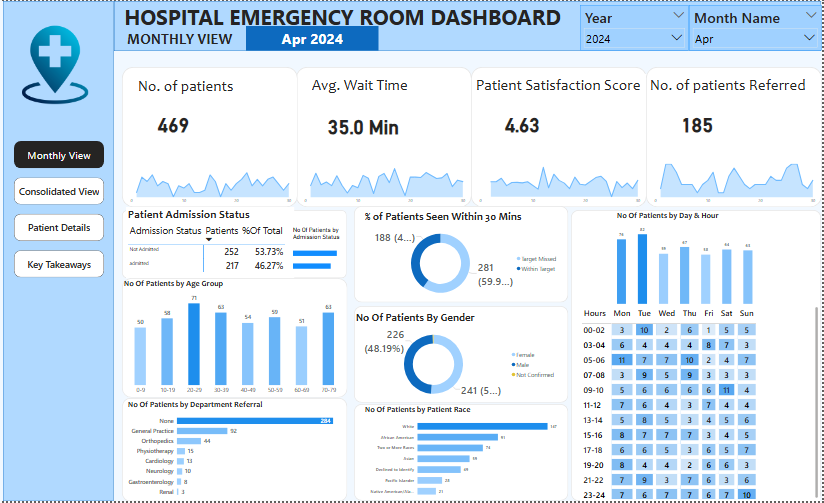

The dashboard page shown, as its layout file describes it:
{"tool":"powerbi","page":{"name":"Monthly View","canvas":[2300,1400],"ordinal":0},"visuals":[{"type":"shape","box":[9.1,0,310,1400.5],"z":0},{"type":"shape","box":[341.1,184.1,492,392.4],"z":0,"group":"g4"},{"type":"shape","box":[830.1,184.1,492,392.4],"z":0,"group":"g1"},{"type":"shape","box":[1319,184.1,492,392.4],"z":0,"group":"g2"},{"type":"shape","box":[1808,184.1,492,392.4],"z":0,"group":"g3"},{"type":"shape","box":[341.2,585.3,629.4,191.2],"z":0,"group":"g5"},{"type":"shape","box":[341.1,775.7,631.4,335.4],"z":0,"group":"g6"},{"type":"card","fields":{"Values":["Hospital ER_Data.No Of Patients"]},"box":[380.3,265.6,208.3,150.9],"z":1000,"group":"g4"},{"type":"card","fields":{"Values":["Hospital ER_Data.Satisfaction Score"]},"box":[1358.2,265.6,208.3,150.9],"z":1000,"group":"g2"},{"type":"card","fields":{"Values":["Hospital ER_Data.No of patients Referred"]},"box":[1847.2,265.6,208.3,150.9],"z":1000,"group":"g3"},{"type":"card","fields":{"Values":["Hospital ER_Data.Avg Wait Time"]},"box":[869.2,277.3,298.8,138.8],"z":1000,"group":"g1"},{"type":"shape","box":[1598.8,585.2,700,814.8],"z":1000},{"type":"shape","box":[319.9,0,1980.1,140],"z":2000},{"type":"textbox","box":[869.2,203.4,308,109.2],"z":2000,"group":"g1"},{"type":"textbox","box":[1328,204.9,489,84.5],"z":2000,"group":"g2"},{"type":"textbox","box":[1814,204.9,482.9,84.5],"z":2000,"group":"g3"},{"type":"textbox","box":[380.3,205.2,307.9,84.5],"z":2000,"group":"g4"},{"type":"textbox","box":[319.9,0,1279.8,90.6],"z":3000},{"type":"areaChart","fields":{"Category":["Date Table.Date.Variation.Date Hierarchy.Day"],"Y":["Hospital ER_Data.No Of Patients"]},"box":[353.2,440.7,470.9,135.8],"z":3000,"group":"g4"},{"type":"areaChart","fields":{"Category":["Date Table.Date.Variation.Date Hierarchy.Day"],"Y":["Avg(Hospital ER_Data.Patient Waittime)"]},"box":[842.2,440.7,470.9,135.8],"z":3000,"group":"g1"},{"type":"areaChart","fields":{"Category":["Date Table.Date.Variation.Date Hierarchy.Day"],"Y":["Hospital ER_Data.Satisfaction Score"]},"box":[1331.1,440.7,470.9,135.8],"z":3000,"group":"g2"},{"type":"areaChart","fields":{"Category":["Date Table.Date.Variation.Date Hierarchy.Day"],"Y":["Hospital ER_Data.No of patients Referred"]},"box":[1820.1,440.7,470.9,135.8],"z":3000,"group":"g3"},{"type":"textbox","box":[319.9,75.5,368.2,63.4],"z":4000},{"type":"slicer","fields":{"Values":["Date Table.Month Name"]},"box":[1928.7,12.1,371.3,126.8],"z":5000},{"type":"slicer","fields":{"Values":["Date Table.Year"]},"box":[1623.9,12.1,304.9,126.8],"z":6000},{"type":"card","fields":{"Values":["Min(Date Table.Month & Year)"]},"box":[688.2,69.4,371.3,69.4],"z":7000},{"type":"group","id":"g1","title":"Group 1","box":[830.1,184.1,492,392.4],"z":8000},{"type":"group","id":"g2","title":"Group 1","box":[1319,184.1,497.9,392.4],"z":9000},{"type":"group","id":"g3","title":"Group 1","box":[1808,184.1,492,392.4],"z":10000},{"type":"group","id":"g4","title":"Group 1","box":[341.1,184.1,492,392.4],"z":11000},{"type":"group","id":"g5","title":"Group 1","box":[341.2,585.3,629.4,191.2],"z":12000},{"type":"pivotTable","title":"Patient Admission Status","fields":{"Rows":["Hospital ER_Data.Admission Status"],"Values":["Hospital ER_Data.No Of Patients1","Hospital ER_Data.No Of Patients"]},"box":[352.9,576.5,470.6,200],"z":13000},{"type":"barChart","fields":{"Category":["Hospital ER_Data.Admission Status"],"Y":["Hospital ER_Data.No Of Patients"]},"box":[814.8,630,156.8,145.6],"z":14000},{"type":"group","id":"g6","title":"Group 1","box":[341.1,775.7,630.8,335],"z":15000},{"type":"clusteredColumnChart","fields":{"Category":["Hospital ER_Data.Age Group"],"Y":["Hospital ER_Data.No Of Patients"]},"box":[341.1,775.7,630.8,335],"z":16000},{"type":"shape","box":[341.1,1110.8,630.8,289.8],"z":17000},{"type":"clusteredBarChart","fields":{"Category":["Hospital ER_Data.Department Referral"],"Y":["Hospital ER_Data.No Of Patients"]},"box":[352.9,1113.1,619.1,285.5],"z":18000},{"type":"shape","box":[991.2,574.2,600,270],"z":19000},{"type":"donutChart","title":"% of Patients Seen Within 30 Mins","fields":{"Category":["Hospital ER_Data.Wait_time_Status"],"Y":["Hospital ER_Data.No Of Patients"]},"box":[1016.1,583.9,554.8,261.3],"z":20000},{"type":"shape","box":[990.3,854.8,600,271],"z":21000},{"type":"donutChart","title":"No Of Patients By Gender","fields":{"Y":["Hospital ER_Data.No Of Patients"],"Category":["Hospital ER_Data.Patient Gender"]},"box":[990.3,867.7,574.2,261.3],"z":22000},{"type":"shape","box":[990.3,1129,600,271],"z":23000},{"type":"clusteredBarChart","fields":{"Y":["Hospital ER_Data.No Of Patients"],"Category":["Hospital ER_Data.Patient Race"]},"box":[1016.4,1128.4,554.4,271.6],"z":24000},{"type":"pivotTable","fields":{"Rows":["Hospital ER_Data.Wait Time Interval"],"Columns":["Date Table.Day Name"],"Values":["Hospital ER_Data.No Of Patients"]},"box":[1624,851.2,672,548.8],"z":25000},{"type":"columnChart","title":"No Of Patients by Day & Hour","fields":{"Category":["Date Table.Day Name"],"Y":["Hospital ER_Data.No Of Patients"]},"box":[1722,585.2,392,268.8],"z":26000},{"type":"image","box":[39.2,44.8,229.6,268.8],"z":27000},{"type":"pageNavigator","box":[39.2,392,252,383.6],"z":28000}]}

Visuals, with their boxes in screenshot pixels (x1, y1, x2, y2), scaled from the page's 2300x1400 canvas onto the 824x503 screenshot:
shape: [3, 0, 114, 502]
shape: [122, 66, 298, 207]
shape: [297, 66, 474, 207]
shape: [473, 66, 649, 207]
shape: [648, 66, 823, 207]
shape: [122, 210, 348, 279]
shape: [122, 279, 348, 399]
card - Hospital ER_Data.No Of Patients: [136, 95, 211, 150]
card - Hospital ER_Data.Satisfaction Score: [487, 95, 561, 150]
card - Hospital ER_Data.No of patients Referred: [662, 95, 736, 150]
card - Hospital ER_Data.Avg Wait Time: [311, 100, 418, 149]
shape: [573, 210, 823, 502]
shape: [115, 0, 823, 50]
textbox: [311, 73, 422, 112]
textbox: [476, 74, 651, 104]
textbox: [650, 74, 823, 104]
textbox: [136, 74, 247, 104]
textbox: [115, 0, 573, 33]
areaChart - Date Table.Date.Variation.Date Hierarchy.Day x Hospital ER_Data.No Of Patients: [127, 158, 295, 207]
areaChart - Date Table.Date.Variation.Date Hierarchy.Day x Avg(Hospital ER_Data.Patient Waittime): [302, 158, 470, 207]
areaChart - Date Table.Date.Variation.Date Hierarchy.Day x Hospital ER_Data.Satisfaction Score: [477, 158, 646, 207]
areaChart - Date Table.Date.Variation.Date Hierarchy.Day x Hospital ER_Data.No of patients Referred: [652, 158, 821, 207]
textbox: [115, 27, 247, 50]
slicer - Date Table.Month Name: [691, 4, 823, 50]
slicer - Date Table.Year: [582, 4, 691, 50]
card - Min(Date Table.Month & Year): [247, 25, 380, 50]
"Group 1" group: [297, 66, 474, 207]
"Group 1" group: [473, 66, 651, 207]
"Group 1" group: [648, 66, 823, 207]
"Group 1" group: [122, 66, 298, 207]
"Group 1" group: [122, 210, 348, 279]
"Patient Admission Status" pivotTable: [126, 207, 295, 279]
barChart - Hospital ER_Data.Admission Status x Hospital ER_Data.No Of Patients: [292, 226, 348, 279]
"Group 1" group: [122, 279, 348, 399]
clusteredColumnChart - Hospital ER_Data.Age Group x Hospital ER_Data.No Of Patients: [122, 279, 348, 399]
shape: [122, 399, 348, 502]
clusteredBarChart - Hospital ER_Data.Department Referral x Hospital ER_Data.No Of Patients: [126, 400, 348, 502]
shape: [355, 206, 570, 303]
"% of Patients Seen Within 30 Mins" donutChart: [364, 210, 563, 304]
shape: [355, 307, 570, 404]
"No Of Patients By Gender" donutChart: [355, 312, 560, 406]
shape: [355, 406, 570, 502]
clusteredBarChart - Hospital ER_Data.No Of Patients x Hospital ER_Data.Patient Race: [364, 405, 563, 502]
pivotTable - Hospital ER_Data.Wait Time Interval x Date Table.Day Name: [582, 306, 823, 502]
"No Of Patients by Day & Hour" columnChart: [617, 210, 757, 307]
image: [14, 16, 96, 113]
pageNavigator: [14, 141, 104, 279]
